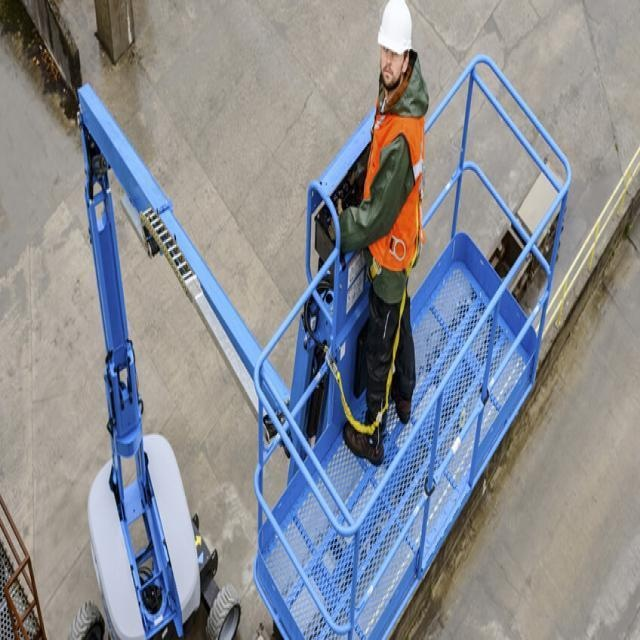Arnes_seguridad: (361, 182, 423, 284)
